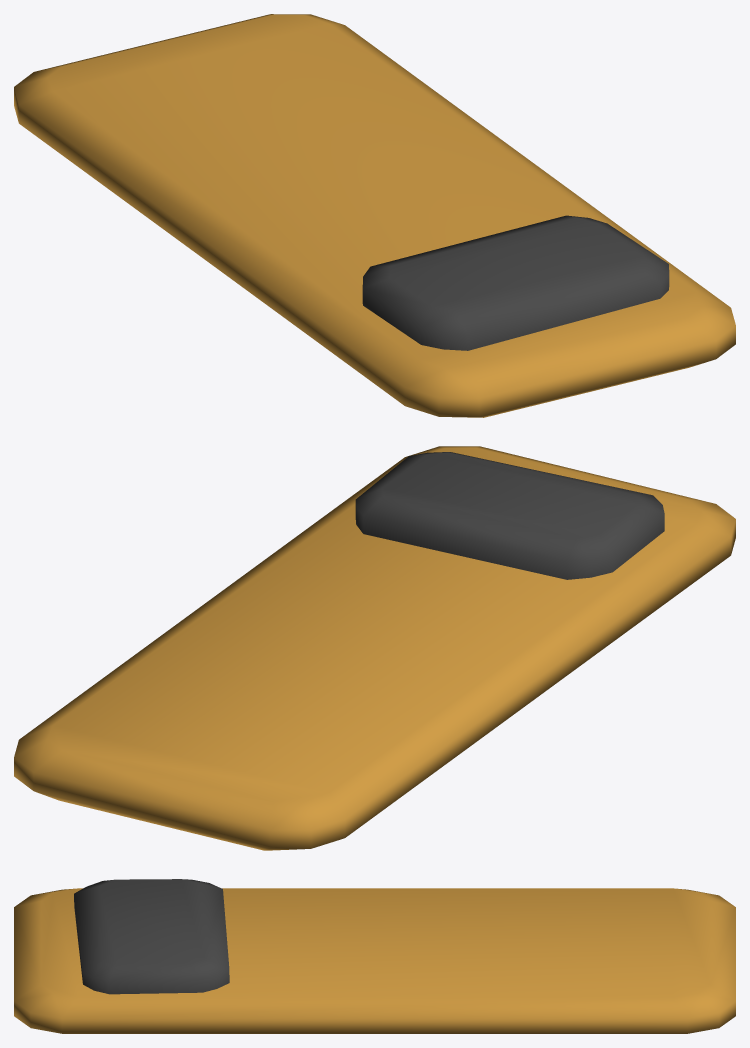
Rendered from SM_Mattress_01.fbx.
The picture shows the model from 3 angles, top to bottom: view 1: azimuth 30°, elevation 25°; view 2: azimuth 150°, elevation 25°; view 3: azimuth 270°, elevation 25°; orthographic projection. The views are drawn at different scales.
Visible parts, largest first — view 1: SM_Mattress_01; view 2: SM_Mattress_01; view 3: SM_Mattress_01.
Part boxes in pixels (x1,y1,x2,y2): SM_Mattress_01: (14, 14, 735, 417); SM_Mattress_01: (14, 446, 735, 850); SM_Mattress_01: (14, 879, 735, 1033).
Size of the model in its own units: 110 by 23.96 by 261.
Materials: 1 (1 with a texture image).
